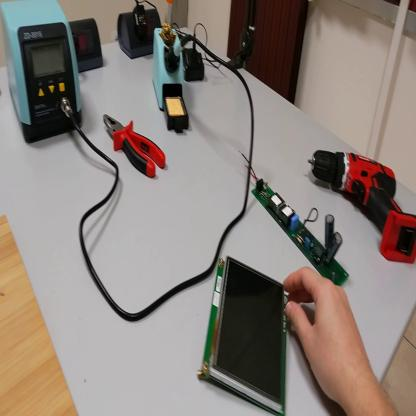electric screwdriver: (308, 149, 415, 265)
electric screwdriver battery: (185, 51, 204, 84)
hand: (285, 264, 374, 404)
high voltage board: (239, 149, 350, 294)
pliers: (103, 113, 168, 179)
socket: (118, 4, 162, 59), (69, 21, 104, 75)
welder base: (154, 24, 190, 137)
welder probe tip: (170, 31, 197, 76)
welder station: (2, 5, 84, 145)
working area: (2, 218, 81, 416)
